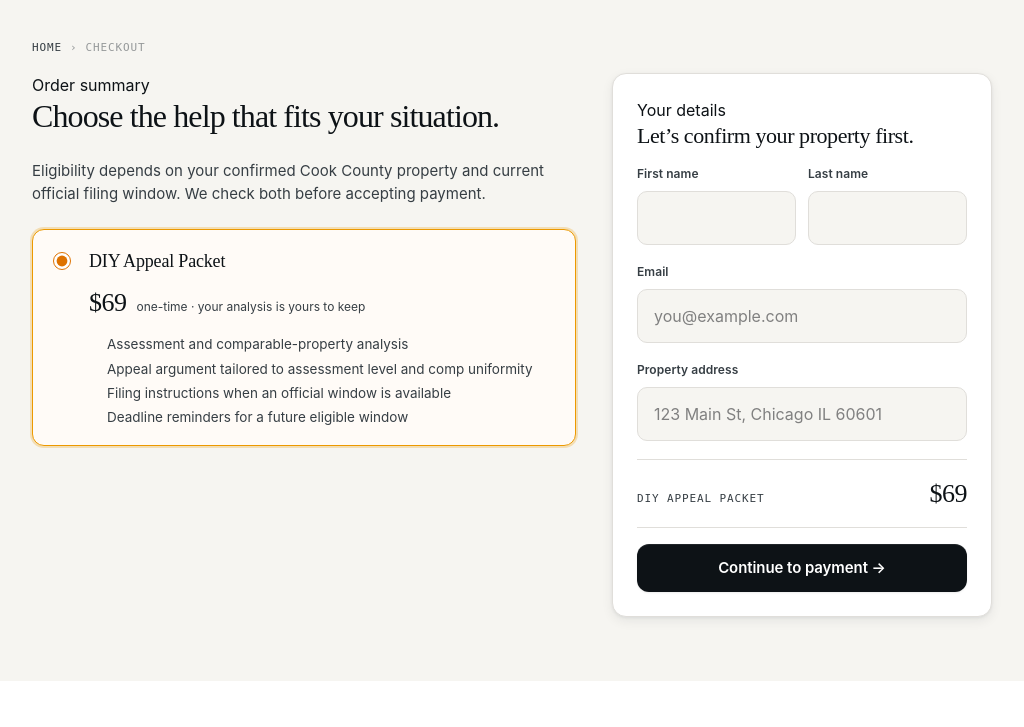
checkout_blocked from the real checkout page › a ADDRESS_AMBIGUOUS gate emits one checkout_blocked and still renders the gate
This screenshot has width=1024, height=727.
Type "Buyer" into the field labelled "First name". click: [716, 218]
box: [637,191,796,245]
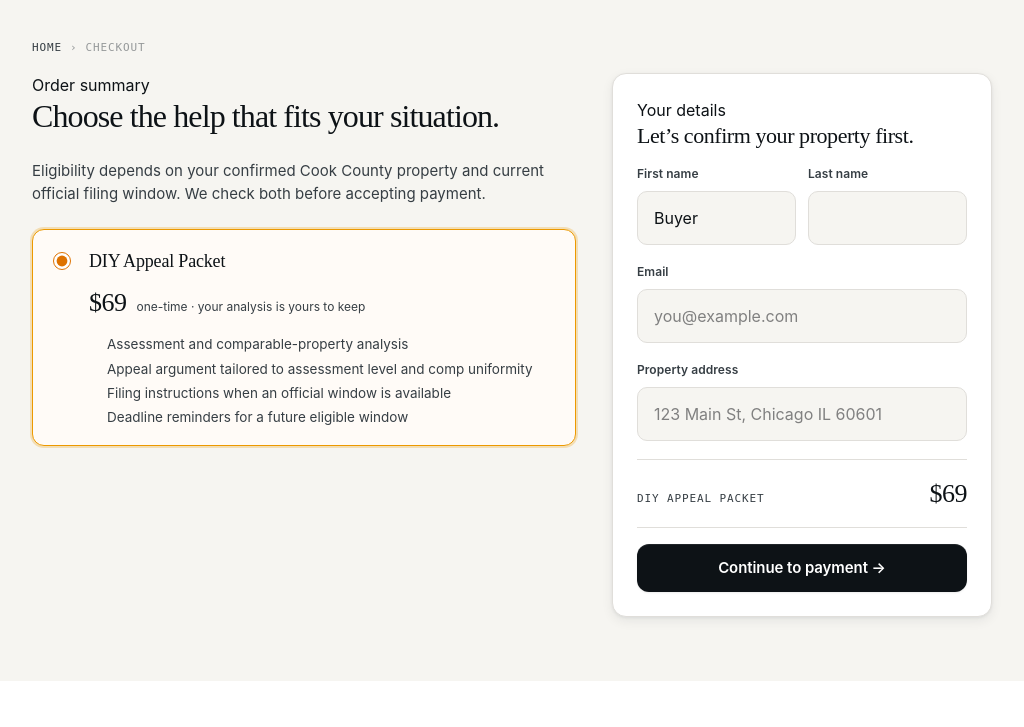
Type "Example" into the field labelled "Last name". click: [888, 218]
box: [808,191,967,245]
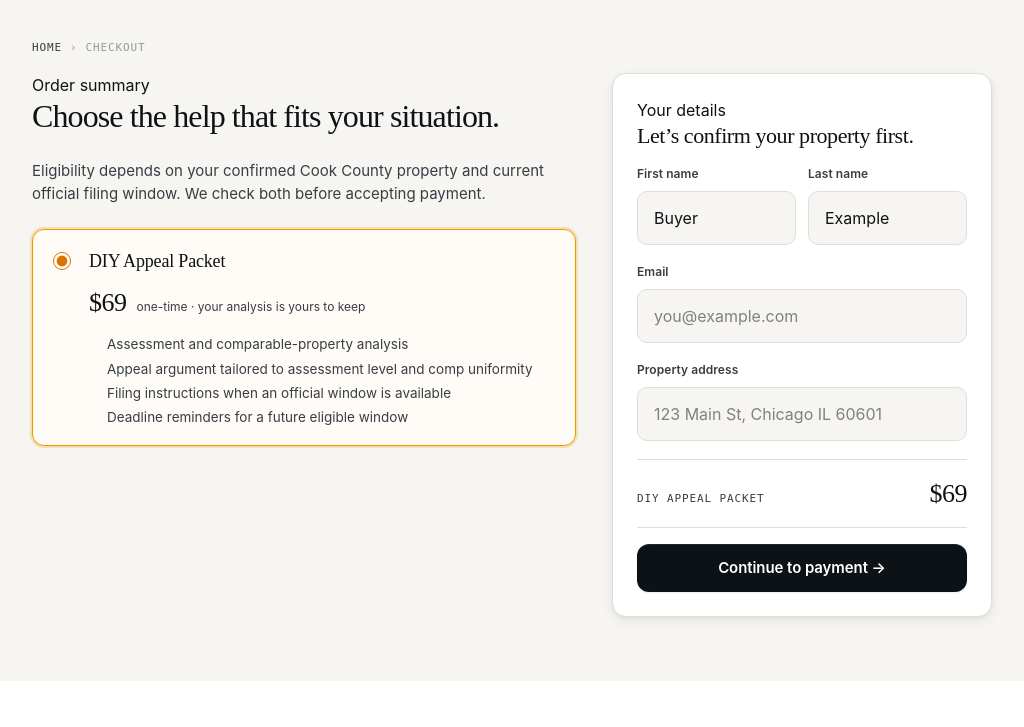
Type "buyer@example.com" into the field labelled "Email". click: [802, 316]
box: [637,289,967,343]
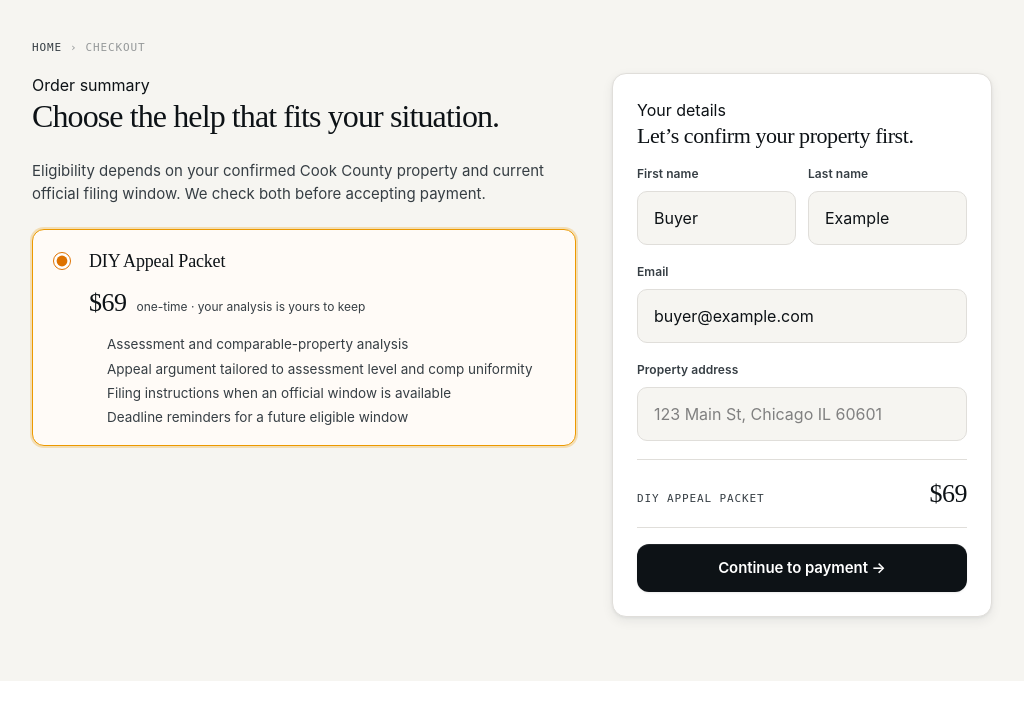
Type "2834 W Henderson St, Chicago IL 60618" into the field labelled "Property address". click: [802, 414]
box: [637,387,967,441]
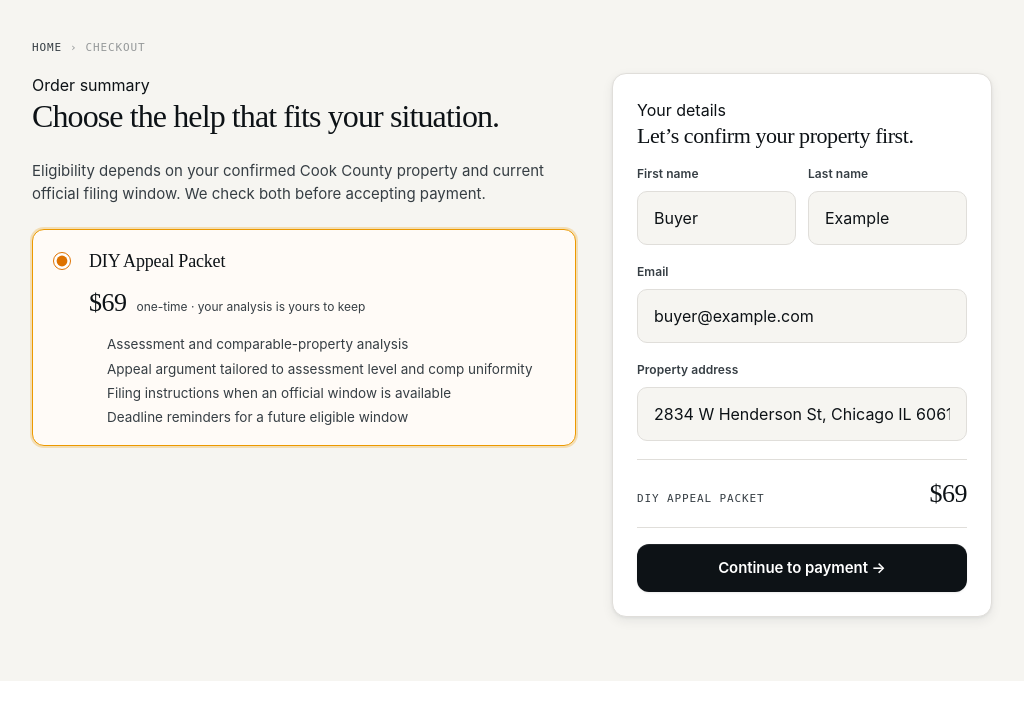
Click the button "Continue to payment →". click: [802, 568]
box: [637,544,967,592]
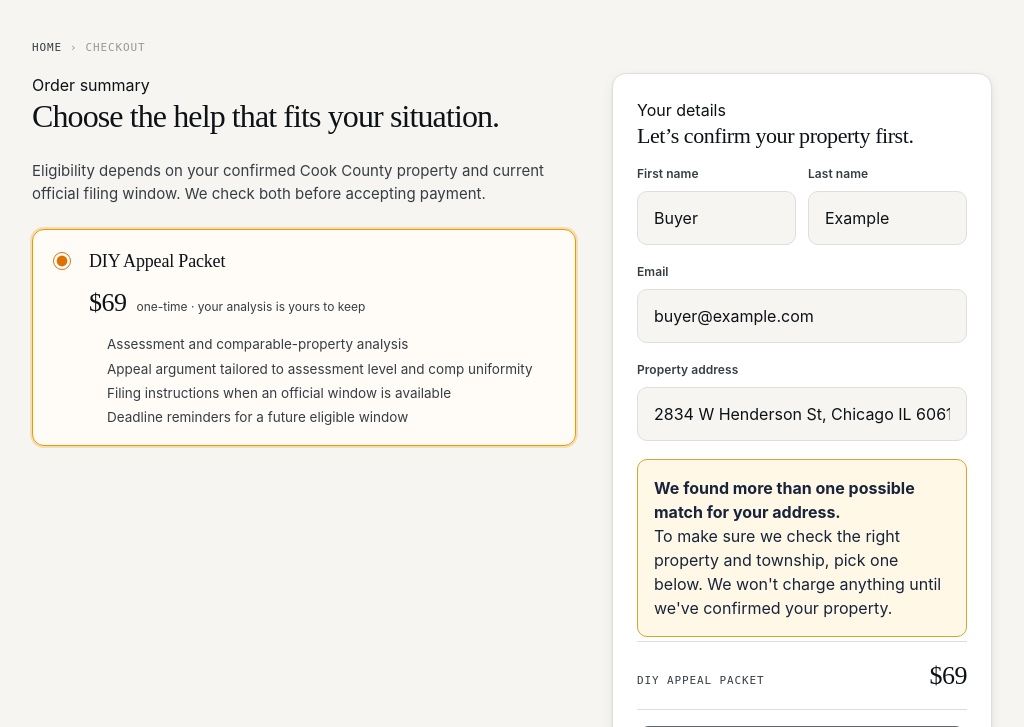
Expected: the text "We found more than one possible match for your address." is shown, [654,478,915,522]
